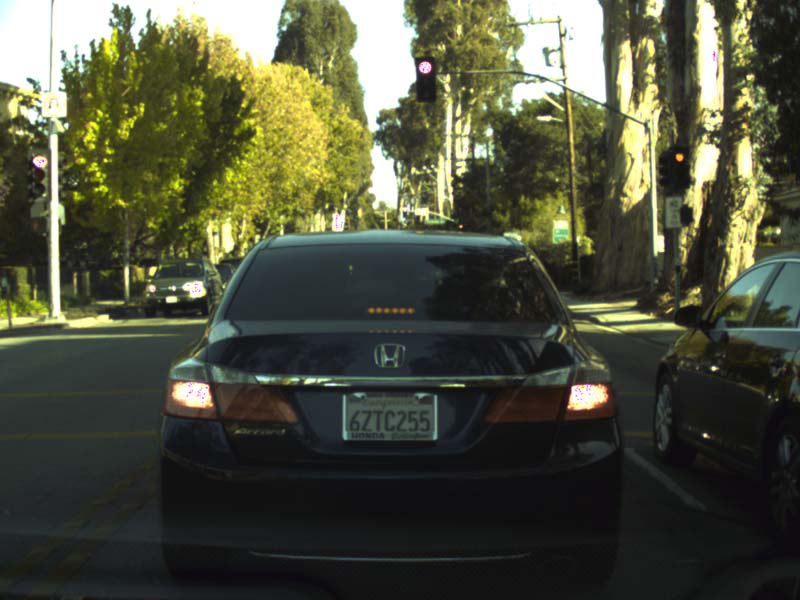Red: (415, 57, 434, 100), (28, 153, 47, 196), (671, 148, 690, 187), (457, 221, 464, 230)
